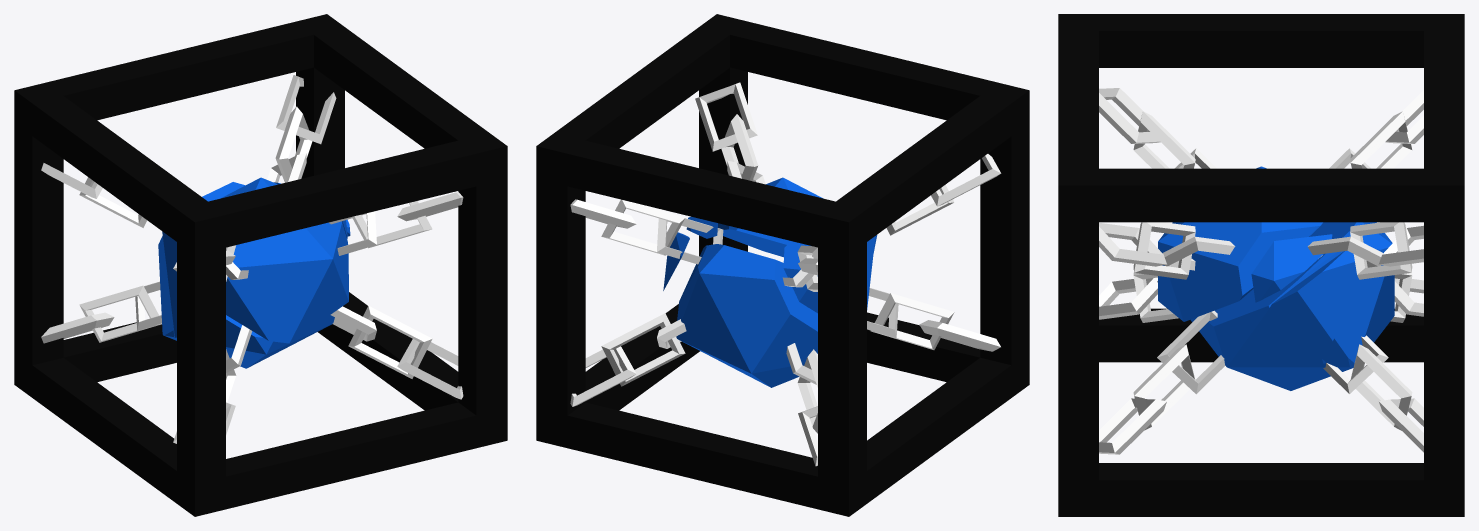
File: explosiveCube.fbx
3 views of the same model, side by side, from view 1: azimuth 30°, elevation 25°; view 2: azimuth 150°, elevation 25°; view 3: azimuth 270°, elevation 25° (orthographic). The views are drawn at different scales.
Parts seen in each view (by area): view 1: Cube; view 2: Cube; view 3: Cube.
Part boxes in pixels (<box>): Cube: <box>14,14,507,516</box>; Cube: <box>536,14,1029,516</box>; Cube: <box>1058,14,1464,516</box>.
Size of the model in its own units: 0.6666 by 0.6 by 0.6666.
